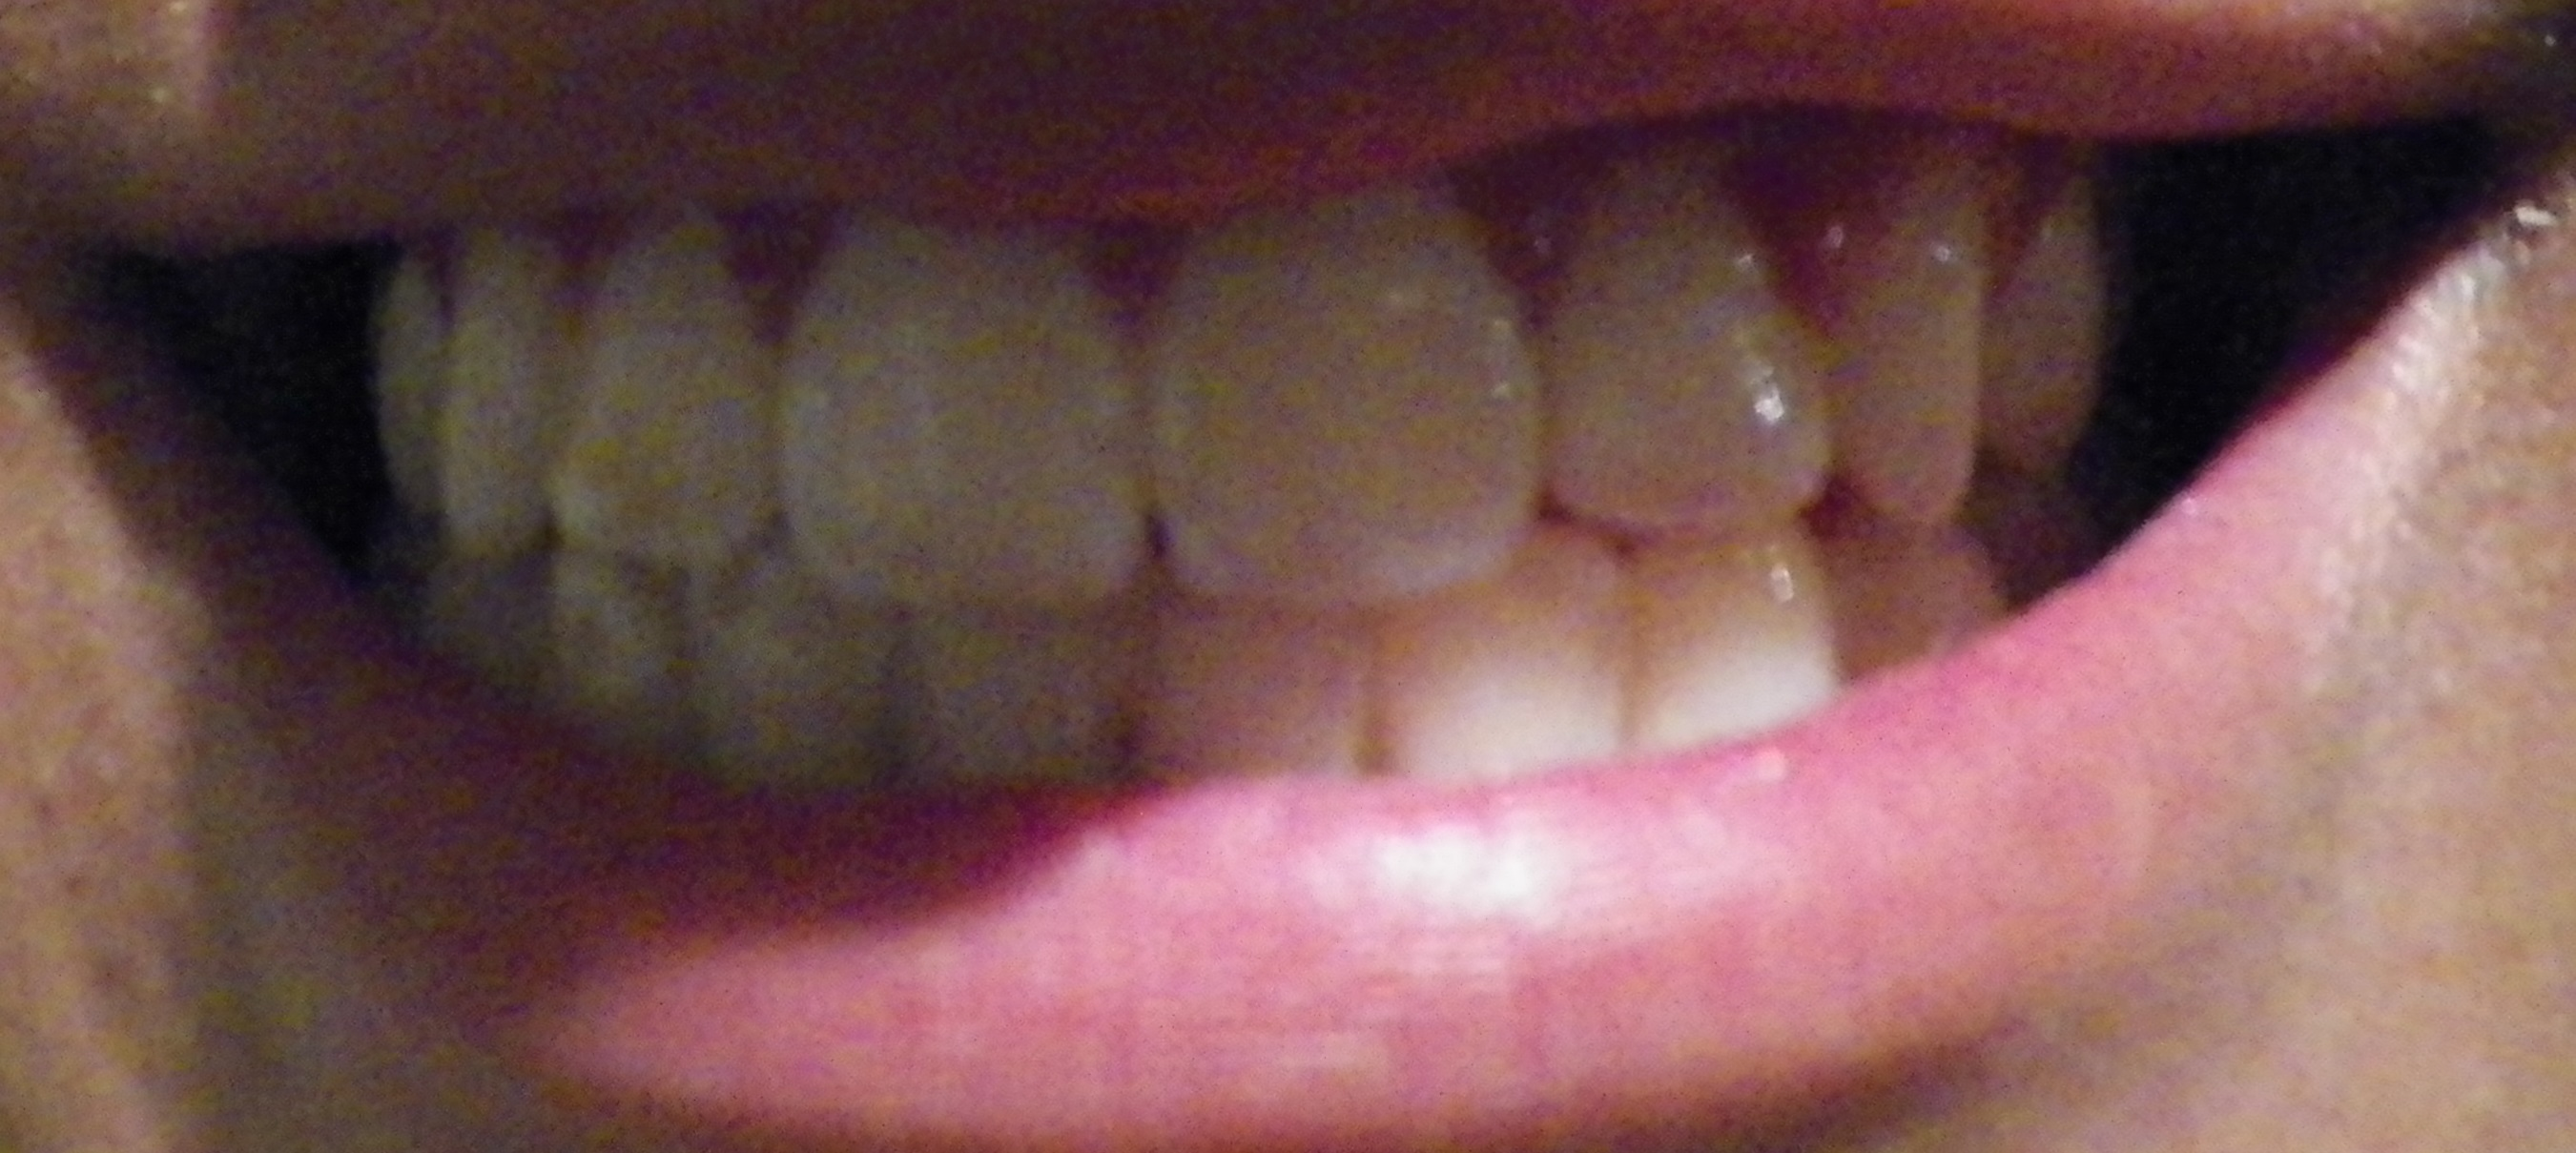boca: (317, 153, 2180, 795)
